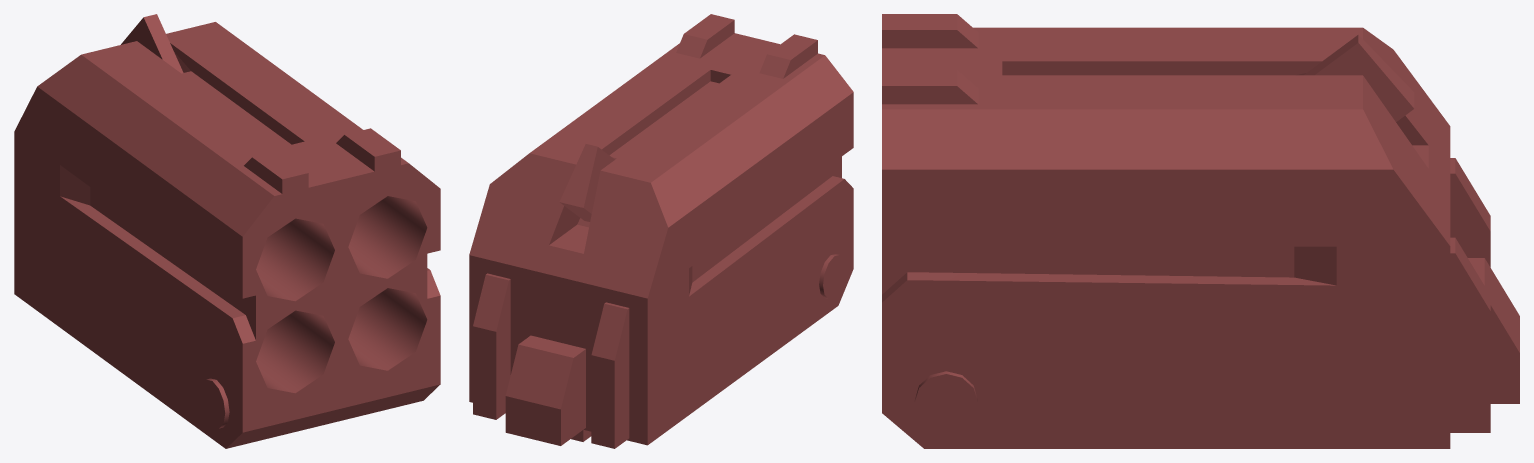
File: WM0_Cannon_x4_LVL0.FBX
3 renders of one model, left to right at view 1: azimuth 30°, elevation 25°; view 2: azimuth 150°, elevation 25°; view 3: azimuth 270°, elevation 25°, orthographic. The views are drawn at different scales.
Parts seen in each view (by area): view 1: WM0_Cannon_x4_LVL0; view 2: WM0_Cannon_x4_LVL0; view 3: WM0_Cannon_x4_LVL0.
Part boxes in pixels (bbox=[...]): WM0_Cannon_x4_LVL0: bbox=[14, 14, 440, 448]; WM0_Cannon_x4_LVL0: bbox=[469, 14, 853, 448]; WM0_Cannon_x4_LVL0: bbox=[882, 14, 1519, 448].
Size of the model in its own units: 11.75 by 16.05 by 25.25.
